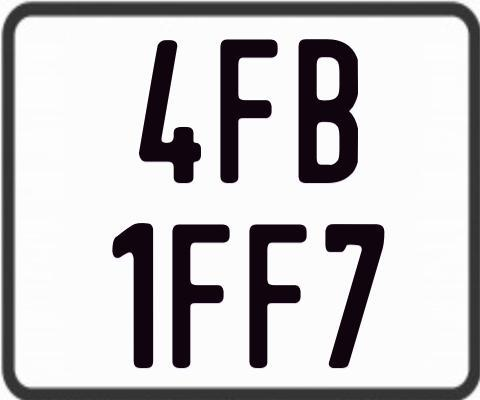1: (109, 221, 156, 367)
4: (138, 38, 204, 182)
7: (322, 224, 383, 369)
B: (299, 39, 362, 189)
F: (172, 223, 236, 370), (247, 224, 311, 368), (219, 36, 278, 182)
